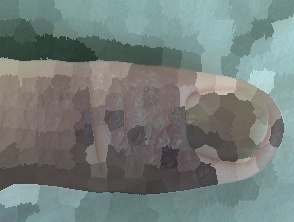Nail_psoriasis: (90, 64, 277, 190)
